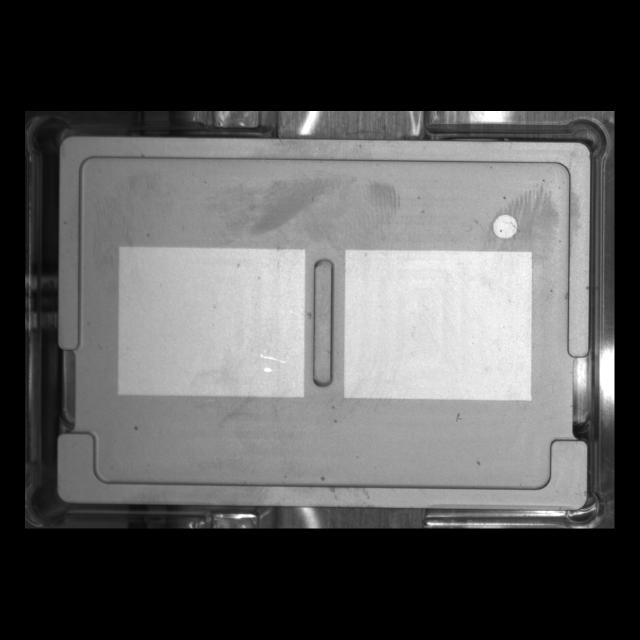door: (41, 416, 598, 518)
point: (486, 205, 524, 245)
